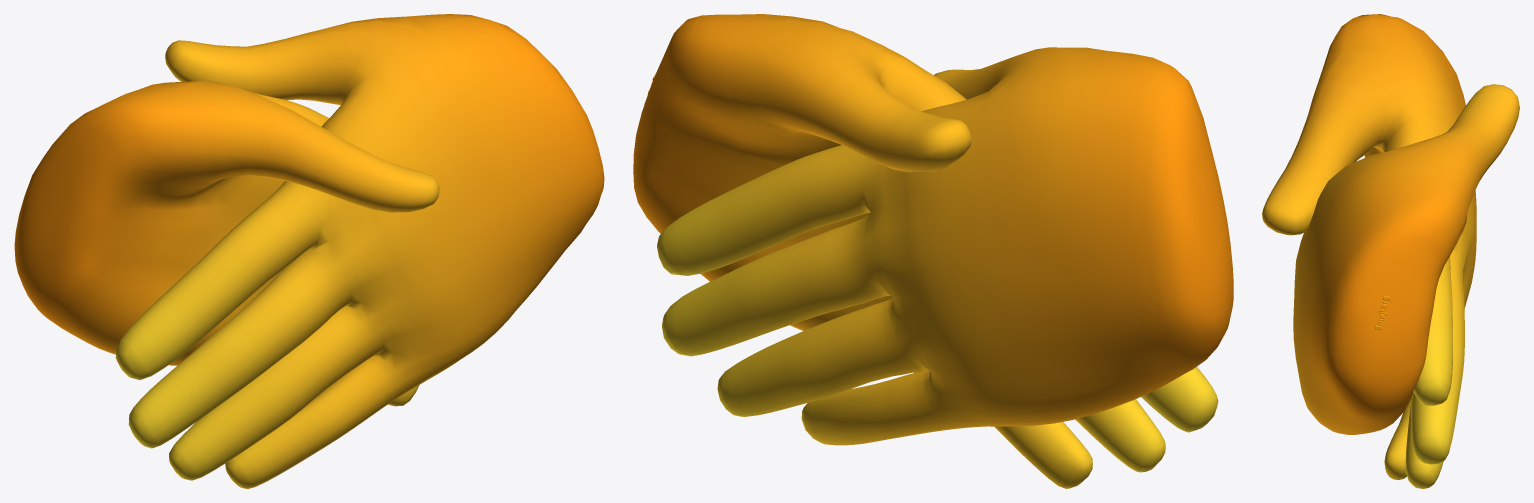
The model's file is handshake.glb.
The picture shows the model from 3 angles, left to right: view 1: azimuth 30°, elevation 25°; view 2: azimuth 150°, elevation 25°; view 3: azimuth 270°, elevation 25°; orthographic projection. The views are drawn at different scales.
Visible parts, largest first — view 1: hand.043, hand.045; view 2: hand.045, hand.043; view 3: hand.043, hand.045.
Part boxes in pixels (bbox=[...]): hand.043: bbox=[115, 14, 604, 488]; hand.045: bbox=[14, 81, 439, 406]; hand.045: bbox=[657, 47, 1233, 445]; hand.043: bbox=[633, 14, 1218, 488]; hand.043: bbox=[1293, 84, 1519, 434]; hand.045: bbox=[1262, 14, 1476, 488].
Bounding box in the file's own units: 1.9 × 1.34 × 0.878.
Materials: 3 (3 with a texture image).
